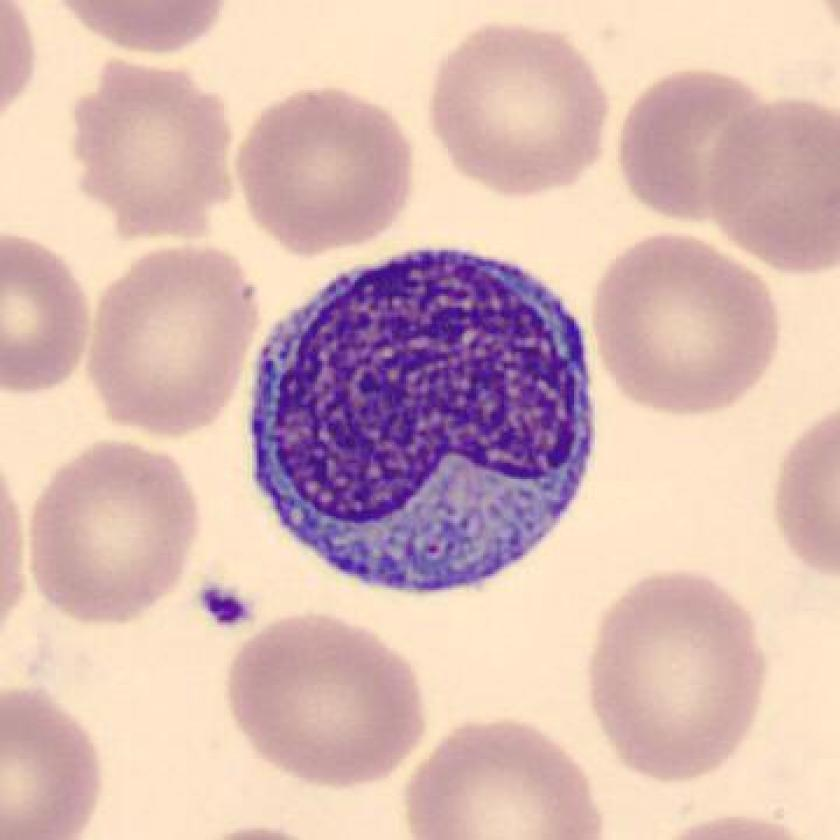monocyte: (237, 223, 612, 617)
